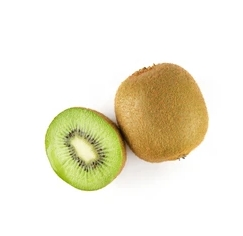kiwi: (106, 64, 226, 163), (43, 91, 127, 189)
